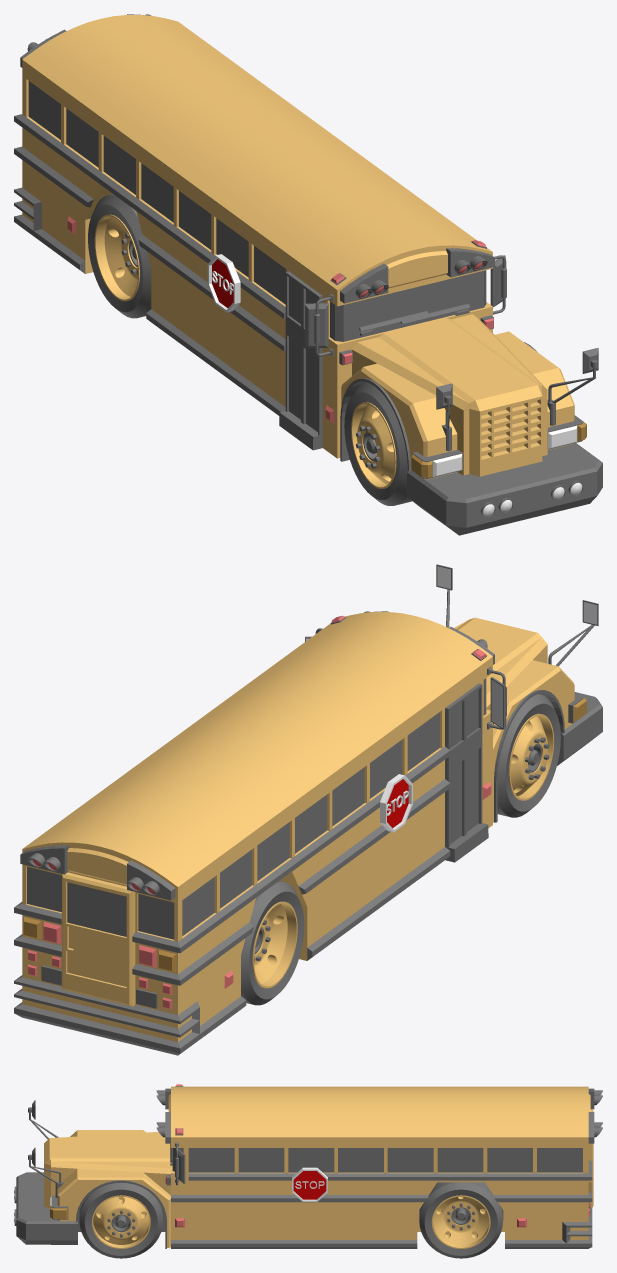
Rendered from SchoolBus.gltf.
3 views of the same model, one above another, from view 1: azimuth 30°, elevation 25°; view 2: azimuth 150°, elevation 25°; view 3: azimuth 270°, elevation 25° (orthographic). The views are drawn at different scales.
Parts seen in each view (by area): view 1: Body21, Body24, Body8, Body2, Tyre3, Tyre4, Body23, Body9, Body11, Body3, Body19, Body15 (+8 smaller); view 2: Body21, Body8, Body24, Body22, Tyre3, Tyre4, Body23, Body10, Body9, Body11, Body2, Body7 (+6 smaller); view 3: Body21, Body24, Body8, Tyre2, Tyre1, Body2, Body17, Body9, Body1, Body12, Body5, Body15 (+2 smaller).
Boxes of the visible parts, <box> form: Body21: <box>22,15,574,479</box>; Body24: <box>28,81,486,431</box>; Body8: <box>14,114,285,415</box>; Body2: <box>407,443,602,535</box>; Tyre3: <box>88,194,151,318</box>; Tyre4: <box>344,382,411,505</box>; Body23: <box>279,271,322,450</box>; Body9: <box>20,14,494,303</box>; Body11: <box>386,251,447,288</box>; Body3: <box>432,425,582,516</box>; Body19: <box>305,255,506,348</box>; Body15: <box>330,241,583,518</box>; Body21: <box>22,612,574,1041</box>; Body8: <box>14,746,450,1055</box>; Body24: <box>27,678,486,939</box>; Body22: <box>62,872,135,1006</box>; Tyre3: <box>241,881,304,1005</box>; Tyre4: <box>497,694,560,817</box>; Body23: <box>445,683,488,862</box>; Body10: <box>28,615,491,1009</box>; Body9: <box>20,611,494,900</box>; Body11: <box>67,848,128,885</box>; Body2: <box>557,692,602,765</box>; Body7: <box>306,566,597,726</box>; Body21: <box>44,1086,588,1247</box>; Body24: <box>172,1148,582,1172</box>; Body8: <box>171,1160,592,1248</box>; Tyre2: <box>419,1182,503,1258</box>; Tyre1: <box>79,1182,163,1258</box>; Body2: <box>16,1172,77,1244</box>; Body17: <box>293,1171,326,1199</box>; Body9: <box>165,1088,594,1143</box>; Body1: <box>76,1180,166,1248</box>; Body12: <box>156,1090,602,1137</box>; Body5: <box>28,1107,63,1198</box>; Body15: <box>14,1086,183,1225</box>.
Size of the model in its own units: 4.09 by 4.03 by 15.71.
